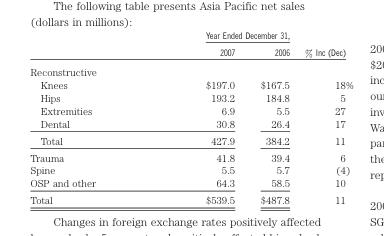table: (29, 29, 353, 205)
table column: (29, 29, 149, 205), (149, 29, 246, 205), (296, 29, 353, 205), (246, 29, 296, 205)
table column header: (29, 29, 353, 61)
table projected row header: (29, 61, 353, 78)
table row: (29, 42, 353, 61), (29, 61, 353, 78), (29, 131, 353, 148), (29, 116, 353, 131), (29, 148, 353, 163), (29, 190, 353, 205), (29, 176, 353, 190), (29, 29, 353, 42), (29, 78, 353, 91), (29, 103, 353, 116), (29, 163, 353, 176), (29, 91, 353, 103)
table spanning cell: (149, 29, 296, 42), (296, 29, 353, 61)
